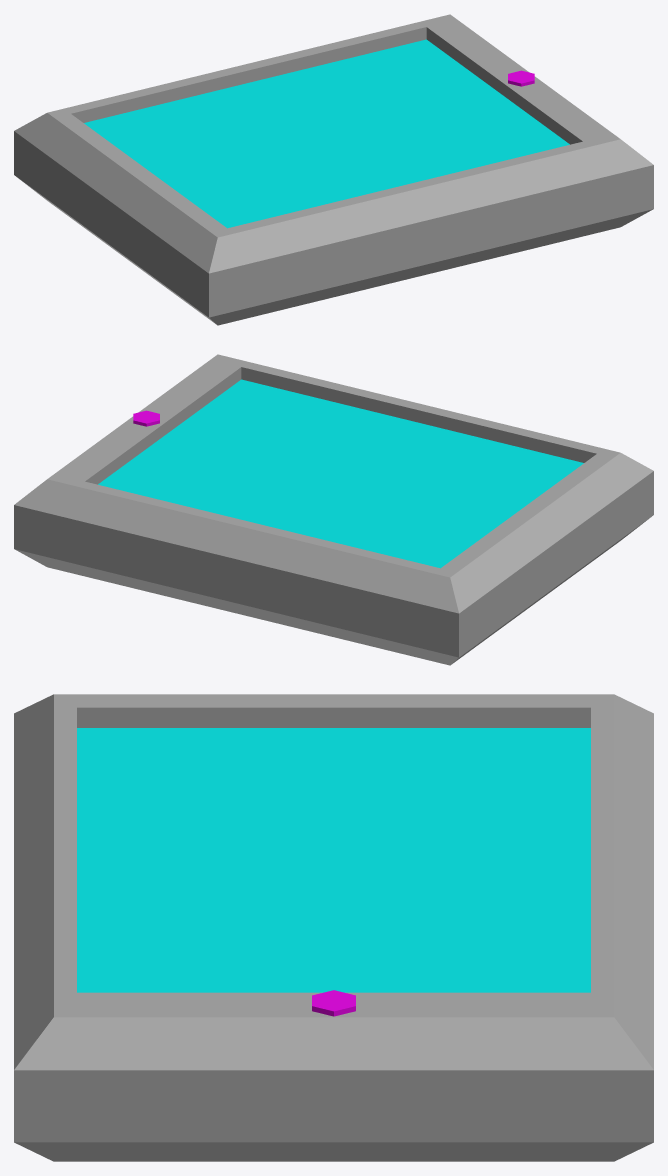
File: Tablet.fbx
3 renders of one model, top to bottom at view 1: azimuth 30°, elevation 25°; view 2: azimuth 150°, elevation 25°; view 3: azimuth 270°, elevation 25°, orthographic. The views are drawn at different scales.
Visible parts, largest first — view 1: TabletShape; view 2: TabletShape; view 3: TabletShape.
Boxes of the visible parts, left/top/right/bottom form: TabletShape: left=14, top=14, right=653, bottom=325; TabletShape: left=14, top=354, right=653, bottom=665; TabletShape: left=14, top=694, right=653, bottom=1161.
Bounding box in the file's own units: 0.2842 × 0.0556 × 0.2155.
